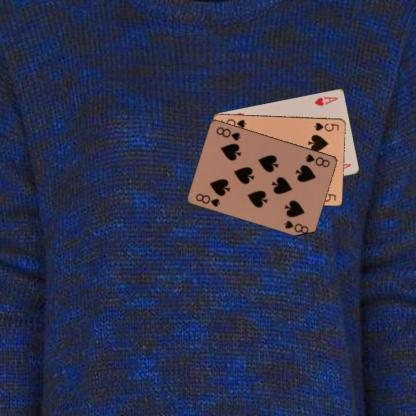5s: (312, 120, 340, 132)
8s: (302, 151, 332, 169), (194, 191, 222, 209)
Ah: (312, 93, 339, 107)
